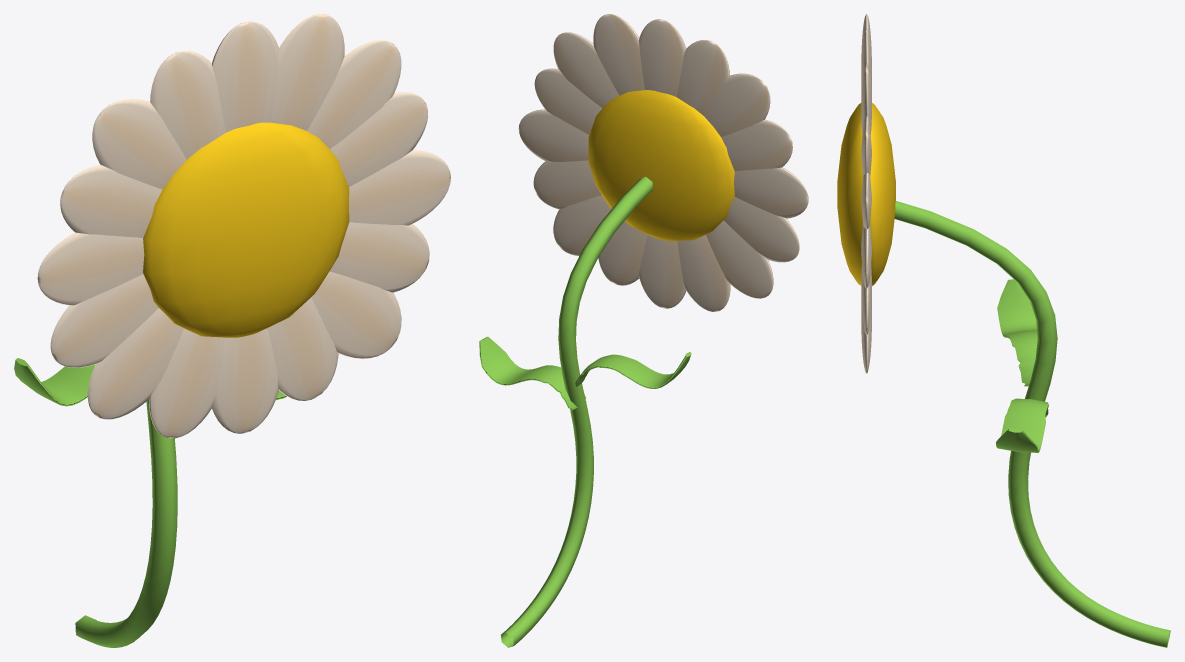
File: flor.obj
The picture shows the model from 3 angles, left to right: view 1: azimuth 30°, elevation 25°; view 2: azimuth 150°, elevation 25°; view 3: azimuth 270°, elevation 25°; orthographic projection. The views are drawn at different scales.
Parts seen in each view (by area): view 1: pasted__group1_pasted__pSphere2 group polySurface16, group pasted__defaultBrush1Main pasted__defaultBrush1MeshGroup, pasted__group1_pasted__pSphere2 group polySurface14, pasted__group1_pasted__pSphere2 group polySurface6, pasted__group1_pasted__pSphere2 group polySurface11, pasted__group1_pasted__pSphere2 group polySurface7, pasted__group1_pasted__pSphere2 group polySurface10, pasted__group1_pasted__pSphere2 group polySurface9, pasted__group1_pasted__pSphere2 group polySurface4, pasted__group1_pasted__pSphere2 group polySurface8, pasted__group1_pasted__pSphere2 group polySurface3, pasted__group1_pasted__pSphere2 group polySurface5 (+7 smaller); view 2: pasted__group1_pasted__pSphere2 group polySurface16, group pasted__defaultBrush1Main pasted__defaultBrush1MeshGroup, pasted__group1_pasted__pSphere2 group polySurface6, pasted__group1_pasted__pSphere2 group polySurface14, pasted__group1_pasted__pSphere2 group polySurface11, pasted__group1_pasted__pSphere2 group polySurface7, pasted__group1_pasted__pSphere2 group polySurface10, pasted__group1_pasted__pSphere2 group polySurface9, pasted__group1_pasted__pSphere2 group polySurface4, pasted__group1_pasted__pSphere2 group polySurface5, pasted__group1_pasted__pSphere2 group polySurface8, pasted__group1_pasted__pSphere2 group polySurface12 (+8 smaller); view 3: group pasted__defaultBrush1Main pasted__defaultBrush1MeshGroup, pasted__group1_pasted__pSphere2 group polySurface16, group pasted__pasted__defaultBrush1Main pasted__pasted__defaultB, group pasted__pasted__pasted__defaultBrush1Main pasted__pasted__, pasted__group1_pasted__pSphere2 group polySurface14, pasted__group1_pasted__pSphere2 group polySurface8, pasted__group1_pasted__pSphere2 group polySurface4, pasted__group1_pasted__pSphere2 group polySurface13, pasted__group1_pasted__pSphere2 group polySurface15.
Part boxes in pixels (x1=…): pasted__group1_pasted__pSphere2 group polySurface16: x1=143, y1=122, x2=349, y2=337; group pasted__defaultBrush1Main pasted__defaultBrush1MeshGroup: x1=75, y1=399, x2=177, y2=647; pasted__group1_pasted__pSphere2 group polySurface14: x1=270, y1=14, x2=344, y2=130; pasted__group1_pasted__pSphere2 group polySurface6: x1=87, y1=308, x2=183, y2=419; pasted__group1_pasted__pSphere2 group polySurface11: x1=92, y1=98, x2=186, y2=189; pasted__group1_pasted__pSphere2 group polySurface7: x1=50, y1=274, x2=158, y2=367; pasted__group1_pasted__pSphere2 group polySurface10: x1=37, y1=232, x2=144, y2=305; pasted__group1_pasted__pSphere2 group polySurface9: x1=212, y1=21, x2=278, y2=132; pasted__group1_pasted__pSphere2 group polySurface4: x1=307, y1=40, x2=401, y2=148; pasted__group1_pasted__pSphere2 group polySurface8: x1=349, y1=150, x2=450, y2=225; pasted__group1_pasted__pSphere2 group polySurface3: x1=311, y1=271, x2=401, y2=358; pasted__group1_pasted__pSphere2 group polySurface5: x1=150, y1=50, x2=225, y2=159; pasted__group1_pasted__pSphere2 group polySurface16: x1=588, y1=90, x2=734, y2=241; group pasted__defaultBrush1Main pasted__defaultBrush1MeshGroup: x1=501, y1=176, x2=652, y2=647; pasted__group1_pasted__pSphere2 group polySurface6: x1=706, y1=220, x2=773, y2=298; pasted__group1_pasted__pSphere2 group polySurface14: x1=593, y1=14, x2=644, y2=95; pasted__group1_pasted__pSphere2 group polySurface11: x1=704, y1=73, x2=770, y2=136; pasted__group1_pasted__pSphere2 group polySurface7: x1=724, y1=196, x2=799, y2=262; pasted__group1_pasted__pSphere2 group polySurface10: x1=734, y1=167, x2=808, y2=218; pasted__group1_pasted__pSphere2 group polySurface9: x1=639, y1=19, x2=686, y2=96; pasted__group1_pasted__pSphere2 group polySurface4: x1=553, y1=32, x2=619, y2=108; pasted__group1_pasted__pSphere2 group polySurface5: x1=677, y1=40, x2=729, y2=115; pasted__group1_pasted__pSphere2 group polySurface8: x1=518, y1=109, x2=588, y2=161; pasted__group1_pasted__pSphere2 group polySurface12: x1=721, y1=119, x2=792, y2=171; group pasted__defaultBrush1Main pasted__defaultBrush1MeshGroup: x1=894, y1=201, x2=1170, y2=647; pasted__group1_pasted__pSphere2 group polySurface16: x1=837, y1=103, x2=895, y2=285; group pasted__pasted__defaultBrush1Main pasted__pasted__defaultB: x1=997, y1=279, x2=1037, y2=386; group pasted__pasted__pasted__defaultBrush1Main pasted__pasted__: x1=996, y1=398, x2=1048, y2=452; pasted__group1_pasted__pSphere2 group polySurface14: x1=861, y1=63, x2=871, y2=134; pasted__group1_pasted__pSphere2 group polySurface8: x1=861, y1=224, x2=871, y2=288; pasted__group1_pasted__pSphere2 group polySurface4: x1=861, y1=115, x2=871, y2=175; pasted__group1_pasted__pSphere2 group polySurface13: x1=861, y1=264, x2=871, y2=335; pasted__group1_pasted__pSphere2 group polySurface15: x1=861, y1=173, x2=871, y2=229.
Bounding box in the file's own units: 0.4995 × 0.8824 × 0.4401.
5 materials, 5 textured.
